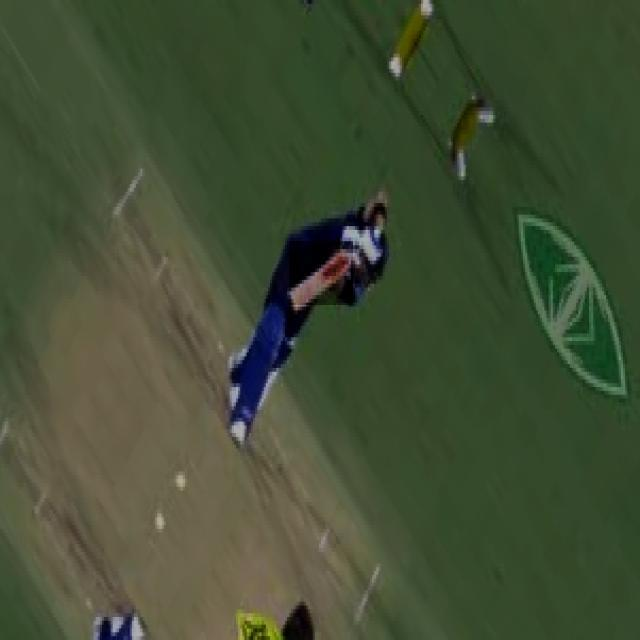bat: (286, 254, 356, 313)
